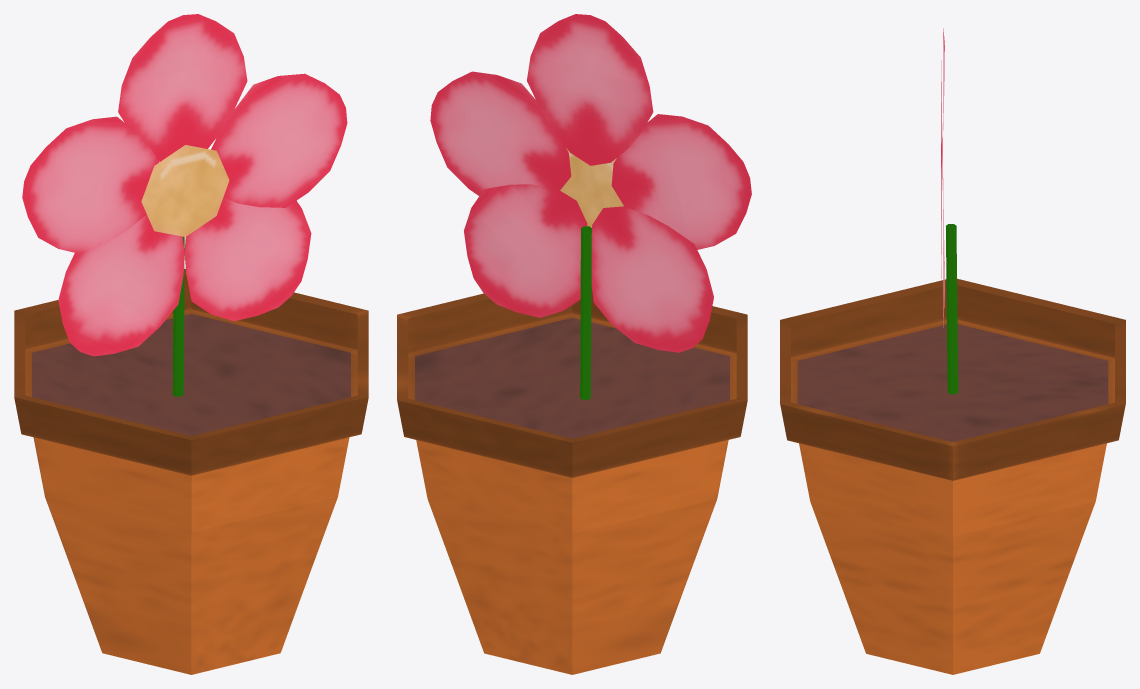
The model's file is Jarron2.glb.
3 renders of one model, left to right at view 1: azimuth 30°, elevation 25°; view 2: azimuth 150°, elevation 25°; view 3: azimuth 270°, elevation 25°, orthographic. The views are drawn at different scales.
Parts seen in each view (by area): view 1: Jarron; view 2: Jarron; view 3: Jarron.
Boxes of the visible parts, <box> form: Jarron: <box>14,14,368,674</box>; Jarron: <box>397,14,751,674</box>; Jarron: <box>780,28,1125,674</box>.
Size of the model in its own units: 2.47 by 4.16 by 2.14.
Materials: 3 (2 with a texture image).
